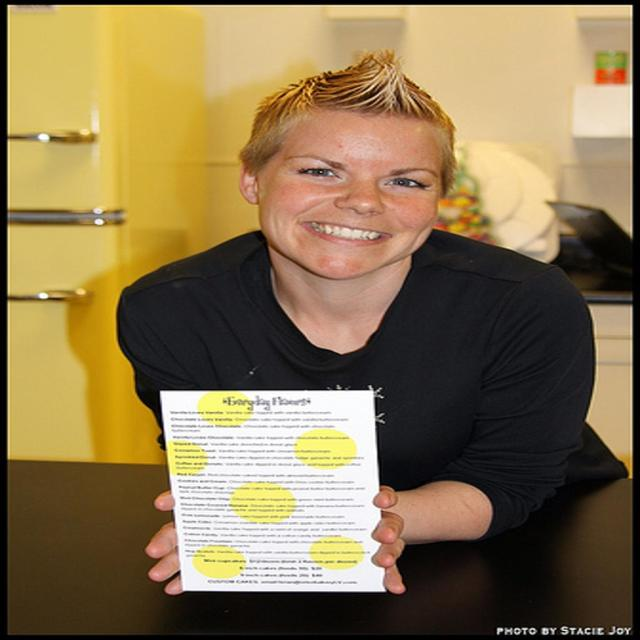Face: (256, 112, 444, 273)
